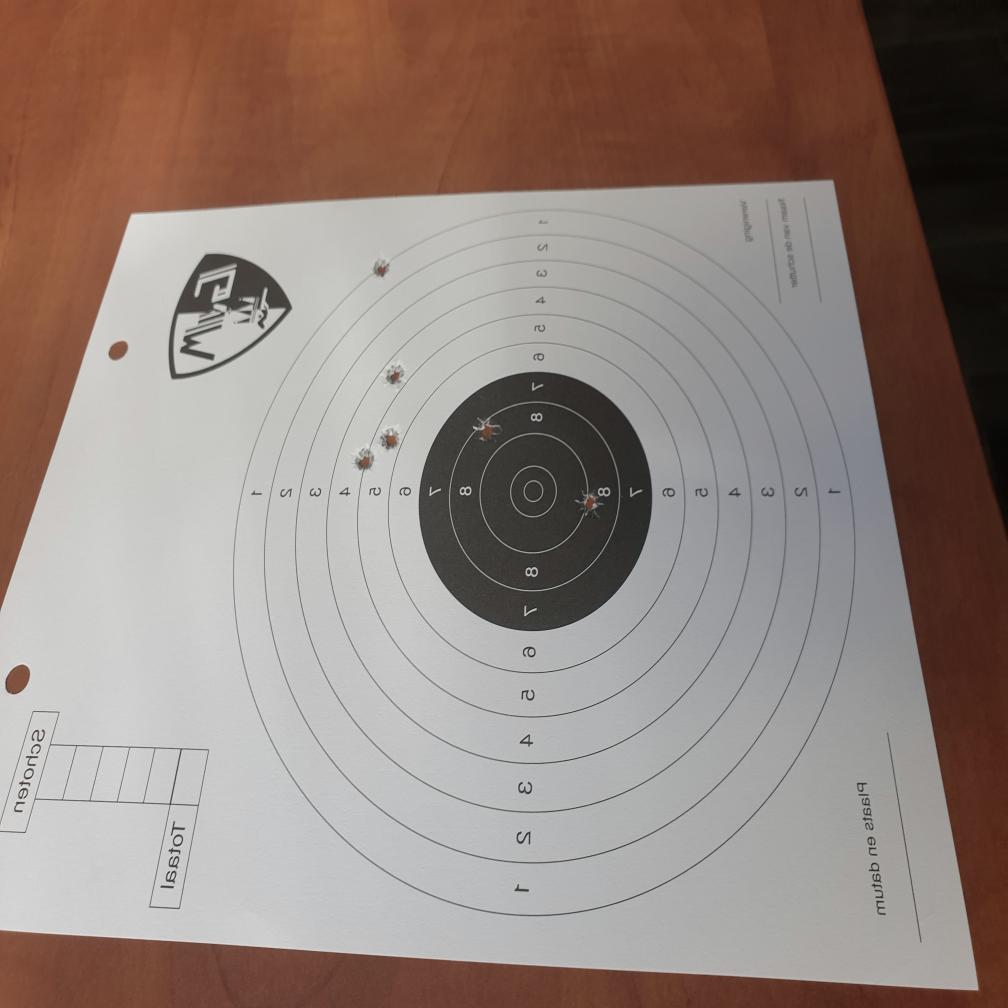1: (373, 256, 392, 278)
4: (384, 362, 406, 390)
5: (353, 445, 375, 473), (380, 426, 402, 451)
8: (470, 415, 502, 445)
9: (575, 485, 602, 521)
Target: (229, 205, 856, 919)
black_contour: (420, 370, 650, 631)
